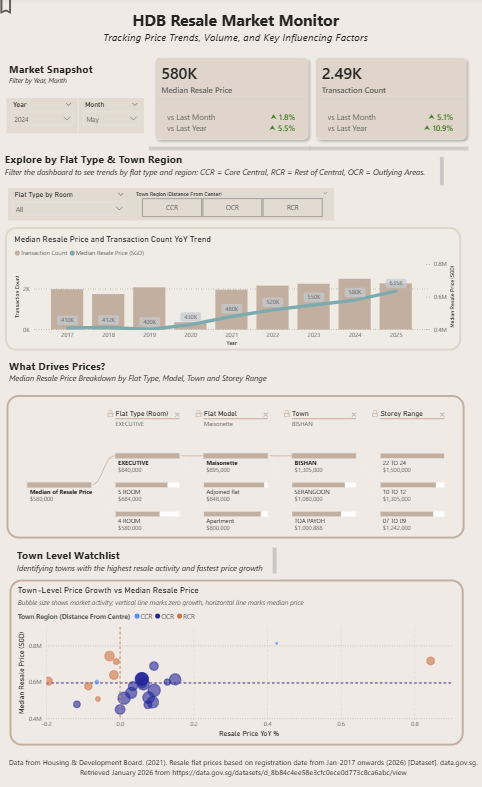

Layout of this report page (visuals, bound fields, positions):
{"tool":"powerbi","page":{"name":"Page 1","canvas":[1000,1629],"ordinal":0},"visuals":[{"type":"decompositionTreeVisual","fields":{"ExplainBy":["HDB Resale Processed.flat_type","HDB Resale Processed.flat_model","HDB Resale Processed.town","HDB Resale Processed.storey_range"],"Analyze":["Median(HDB Resale Processed.resale_price)"]},"box":[21.4,812.9,934.3,307.1],"z":0},{"type":"actionButton","box":[0,0,100,40],"z":1000},{"type":"actionButton","box":[0,0,100,40],"z":2000},{"type":"actionButton","box":[0,0,100,40],"z":3000},{"type":"textbox","box":[24,20,928,86],"z":4000},{"type":"slicer","fields":{"Values":["Date.Year"]},"box":[22.2,208.3,145,71.7],"z":5000},{"type":"slicer","fields":{"Values":["Town Region Mappings.town_region"]},"box":[273,392.1,417.1,65.7],"z":6000},{"type":"slicer","fields":{"Values":["HDB Resale Processed.flat_type"]},"box":[24.4,392.1,248.6,65.7],"z":7000},{"type":"lineClusteredColumnComboChart","title":"Median Resale Price and Transaction Count YoY Trend","fields":{"Y":["CountNonNull(HDB Resale Processed.resale_price)"],"Category":["Date.Year"],"Y2":["HDB Resale Processed.Median Resale Price"]},"box":[18.3,471.7,930,251.7],"z":8000},{"type":"cardVisual","fields":{"Data":["HDB Resale Processed.Median Resale Price"]},"box":[300.6,100,361.7,216.7],"z":9000},{"type":"slicer","fields":{"Values":["Date.Month Name"]},"box":[167.2,208.3,133.3,71.7],"z":10000},{"type":"cardVisual","fields":{"Data":["HDB Resale Processed.Transaction Count"]},"box":[625.6,100,356.7,216.7],"z":11000},{"type":"textbox","box":[22.2,128.3,283.3,63.3],"z":12000},{"type":"textbox","box":[12.5,319.2,905.7,72.9],"z":13000},{"type":"textbox","box":[22.9,734.8,621.4,64.3],"z":14000},{"type":"scatterChart","title":"Town-Level Price Growth vs Median Resale Price ","fields":{"Category":["HDB Resale Processed.town"],"X":["HDB Resale Processed.Price YoY Numeric"],"Y":["HDB Resale Processed.Median Resale Price"],"Size":["HDB Resale Processed.Transaction Count"],"Series":["Town Region Mappings.town_region"]},"box":[27.1,1189.8,925.7,338.6],"z":15000},{"type":"textbox","box":[35.7,1120,540,70],"z":16000},{"type":"textbox","box":[10,1548,990,52],"z":17000}]}

Visuals, with their boxes in screenshot pixels (x1, y1, x2, y2), scaled from the page's 1000x1629 canvas onto the 482x787 screenshot:
decompositionTreeVisual - HDB Resale Processed.flat_type x HDB Resale Processed.flat_model: bbox(10, 393, 461, 541)
actionButton: bbox(0, 0, 48, 19)
actionButton: bbox(0, 0, 48, 19)
actionButton: bbox(0, 0, 48, 19)
textbox: bbox(12, 10, 459, 51)
slicer - Date.Year: bbox(11, 101, 81, 135)
slicer - Town Region Mappings.town_region: bbox(132, 189, 333, 221)
slicer - HDB Resale Processed.flat_type: bbox(12, 189, 132, 221)
"Median Resale Price and Transaction Count YoY Trend" lineClusteredColumnComboChart: bbox(9, 228, 457, 349)
cardVisual - HDB Resale Processed.Median Resale Price: bbox(145, 48, 319, 153)
slicer - Date.Month Name: bbox(81, 101, 145, 135)
cardVisual - HDB Resale Processed.Transaction Count: bbox(302, 48, 473, 153)
textbox: bbox(11, 62, 147, 93)
textbox: bbox(6, 154, 443, 189)
textbox: bbox(11, 355, 311, 386)
"Town-Level Price Growth vs Median Resale Price " scatterChart: bbox(13, 575, 459, 738)
textbox: bbox(17, 541, 277, 575)
textbox: bbox(5, 748, 481, 773)
